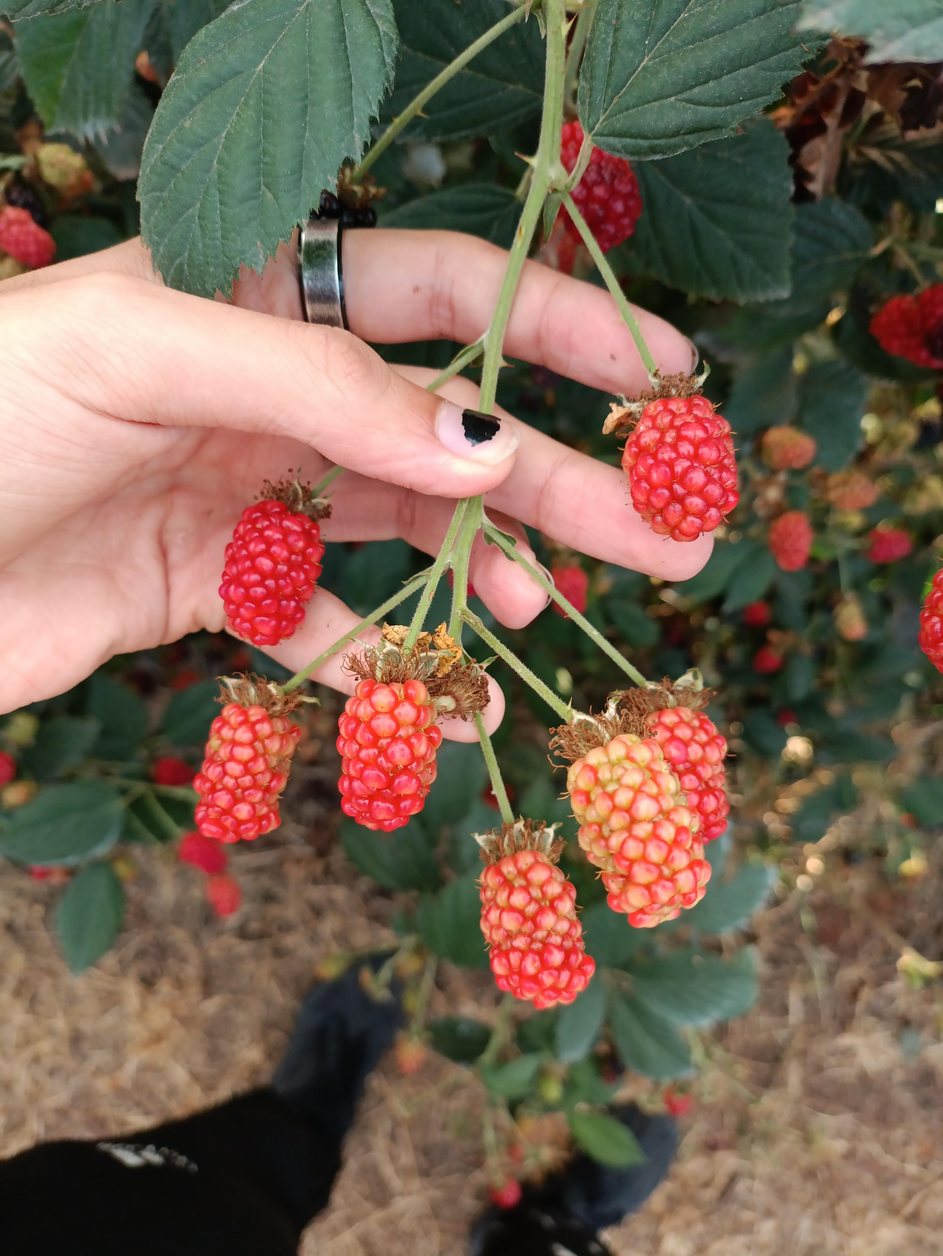naranja: (480, 843, 594, 1008), (219, 482, 325, 647), (622, 394, 738, 541), (336, 677, 441, 832), (194, 701, 300, 843)
